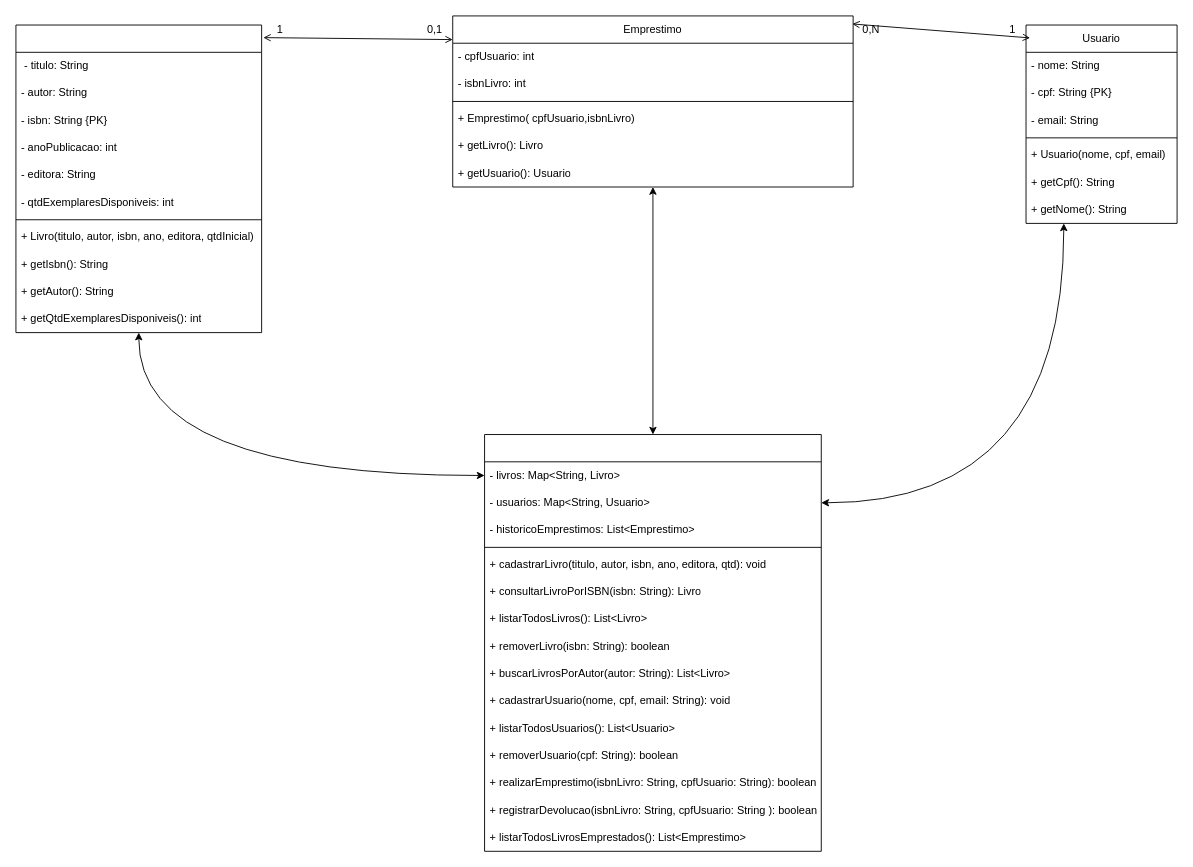
The diagram is 1193 pixels wide and 867 high, and some of its shapes have lost their labels. Each missing label, with the box of its shape:
Biblioteca/controle: (484, 434, 821, 851)
Livros: (15, 24, 262, 333)
